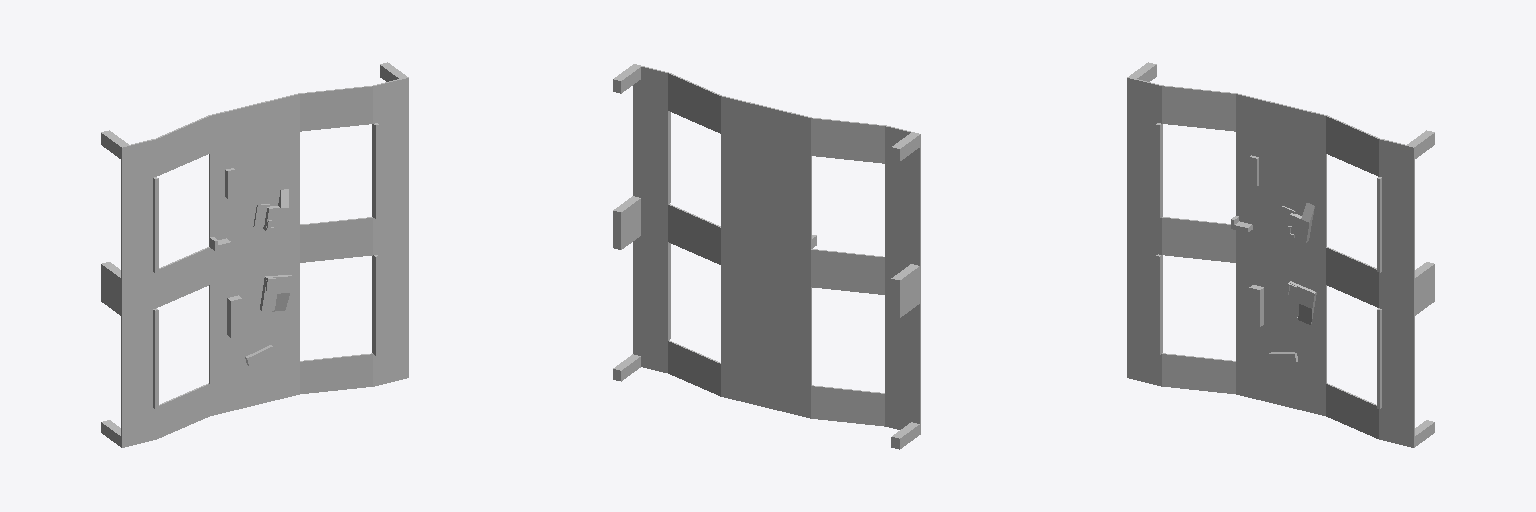
The model's file is deck17.obj.
3 views of the same model, side by side, from view 1: azimuth 30°, elevation 25°; view 2: azimuth 150°, elevation 25°; view 3: azimuth 330°, elevation 25° (orthographic).
Parts seen in each view (by area): view 1: Plane.002, Cube.008_Cube.009, Cube.006_Cube.007, Cube.009_Cube.010, Cube_Cube.001, Cube.002_Cube.003, Cube.003_Cube.004, Cube.001_Cube.002; view 2: Plane.002; view 3: Plane.002, Cube.008_Cube.009, Cube.006_Cube.007, Cube_Cube.001, Cube.009_Cube.010, Cube.001_Cube.002.
Part boxes in pixels (x1,y1,x2,y2): Plane.002: (101,62,408,447); Cube.008_Cube.009: (260,275,292,311); Cube.006_Cube.007: (263,189,288,230); Cube.009_Cube.010: (227,295,241,337); Cube_Cube.001: (153,308,158,408); Cube.002_Cube.003: (373,255,378,355); Cube.003_Cube.004: (373,123,378,218); Cube.001_Cube.002: (153,177,158,272); Plane.002: (613,64,920,449); Plane.002: (1127,62,1434,447); Cube.008_Cube.009: (1284,281,1316,324); Cube.006_Cube.007: (1288,203,1314,242); Cube_Cube.001: (1156,254,1161,354); Cube.009_Cube.010: (1249,285,1263,326); Cube.001_Cube.002: (1156,123,1161,218).
Size of the model in its own units: 159 by 159 by 22.09.